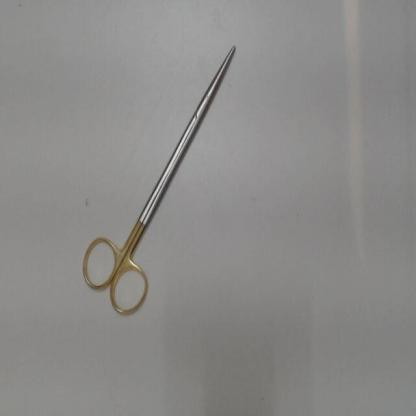7 Metzenbaum Scissors: (81, 46, 237, 320)
